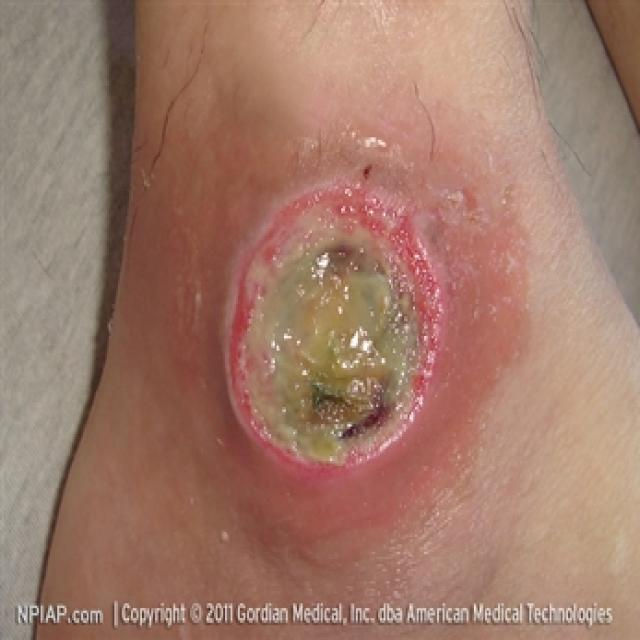Unstageable: (236, 192, 430, 459)
